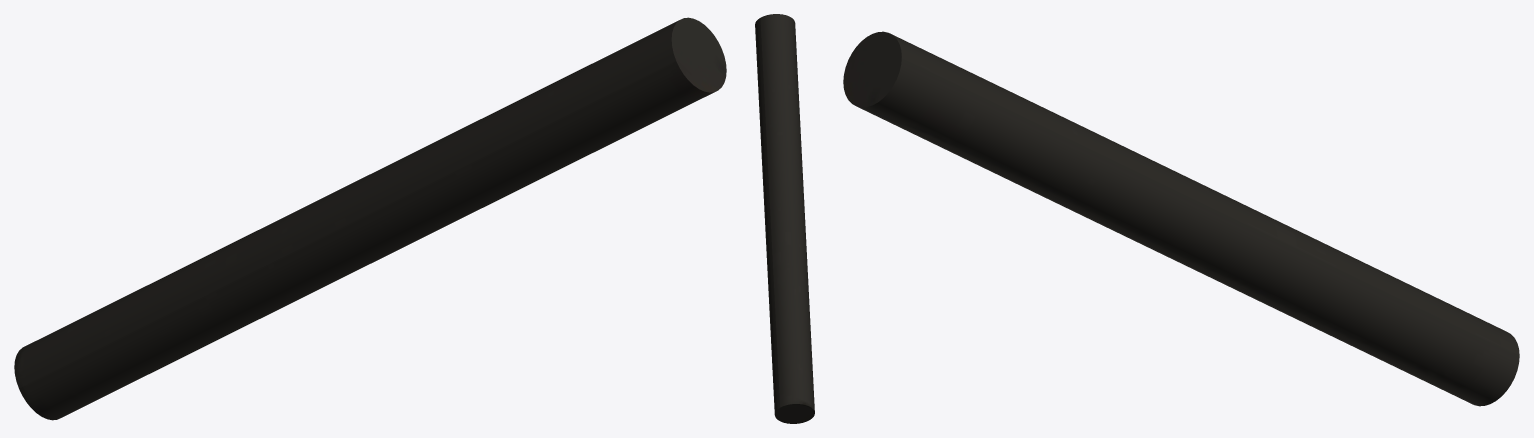
The model's file is frame__front_diag_0.glb.
3 views of the same model, side by side, from view 1: azimuth 30°, elevation 25°; view 2: azimuth 150°, elevation 25°; view 3: azimuth 270°, elevation 25° (orthographic). The views are drawn at different scales.
Parts seen in each view (by area): view 1: world; view 2: world; view 3: world.
Boxes of the visible parts, x1=… form: world: x1=14, y1=17, x2=726, y2=420; world: x1=755, y1=14, x2=814, y2=423; world: x1=843, y1=31, x2=1519, y2=406.
Bounding box in the file's own units: 0.1649 × 0.2029 × 0.2354.
1 material, 1 textured.
